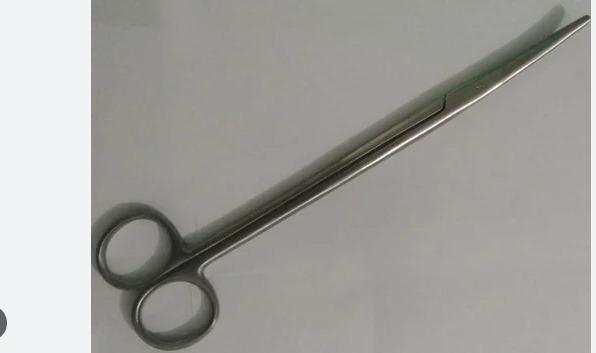Metzenbaum Sciccors: (93, 9, 591, 349)
